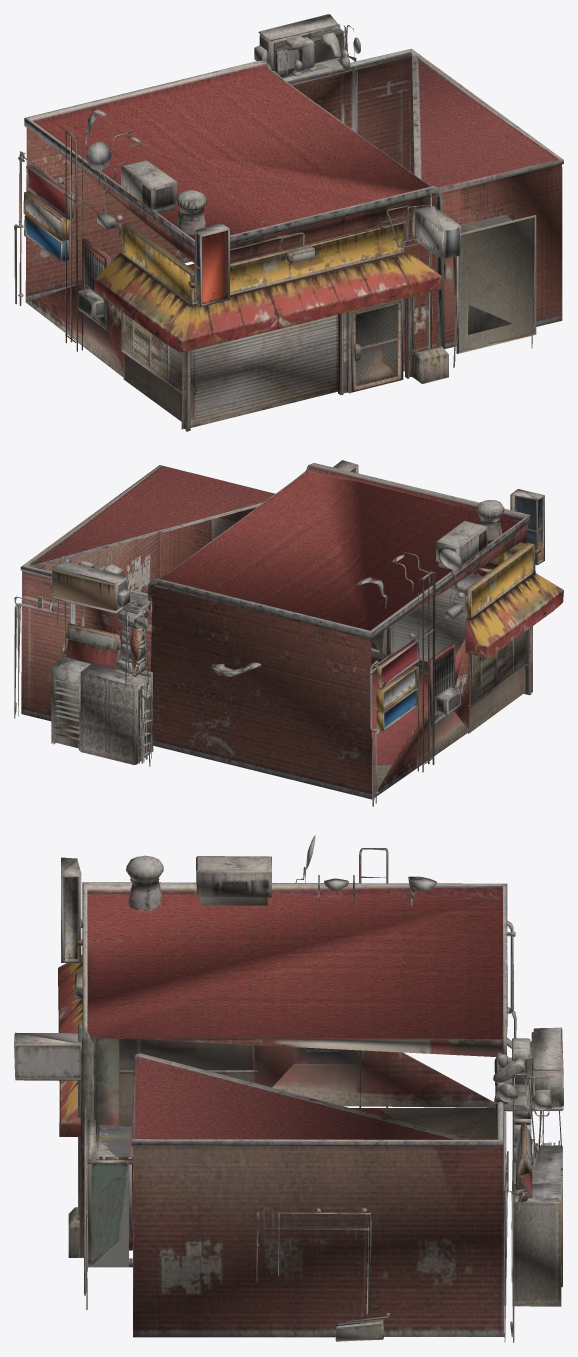
The model's file is el-deli.glb.
The picture shows the model from 3 angles, top to bottom: view 1: azimuth 30°, elevation 25°; view 2: azimuth 150°, elevation 25°; view 3: azimuth 270°, elevation 25°; orthographic projection. The views are drawn at different scales.
Size of the model in its own units: 0.9468 by 0.4702 by 0.8623.
1 material, 1 textured.
